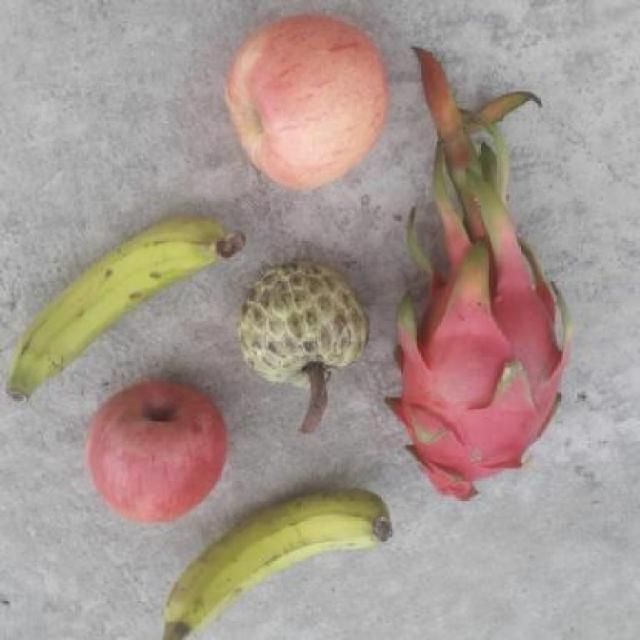apple: (218, 12, 394, 196), (79, 376, 232, 529)
banana: (5, 222, 230, 402), (147, 482, 395, 640)
dragon fruit: (379, 235, 579, 502)
sugar apple: (230, 257, 368, 392)
